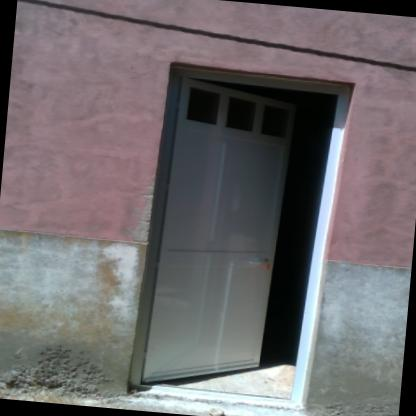semi: (129, 45, 357, 415)
